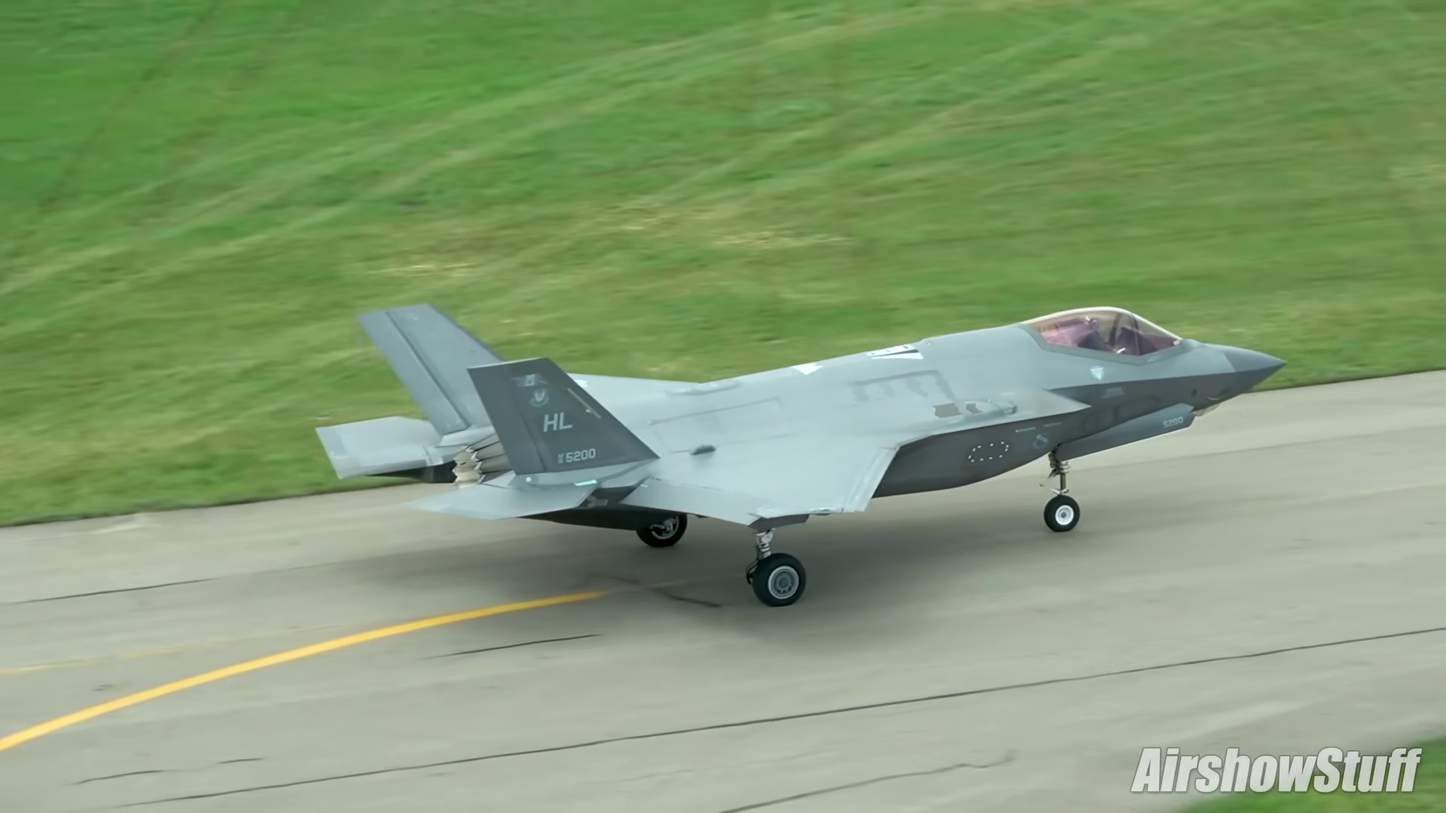F35: (309, 294, 1292, 618)
